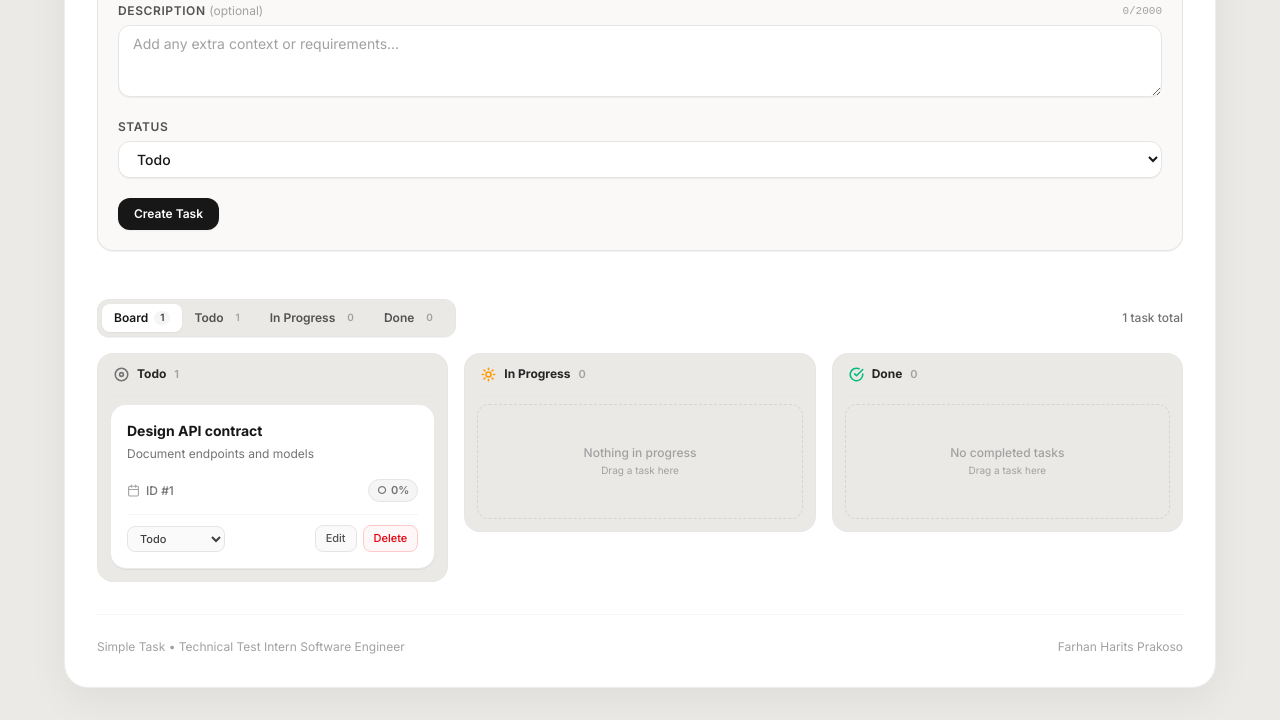
Test: Task Tracker App Component Tests (with Axios) › updates task status through quick selector via Axios PUT
(page scrolled)
Expected: the heading "Design API contract" is shown, [127,422,262,438]
Select "Done" in the dropdown named "change status for task": [176, 539] box [127,526,225,552]
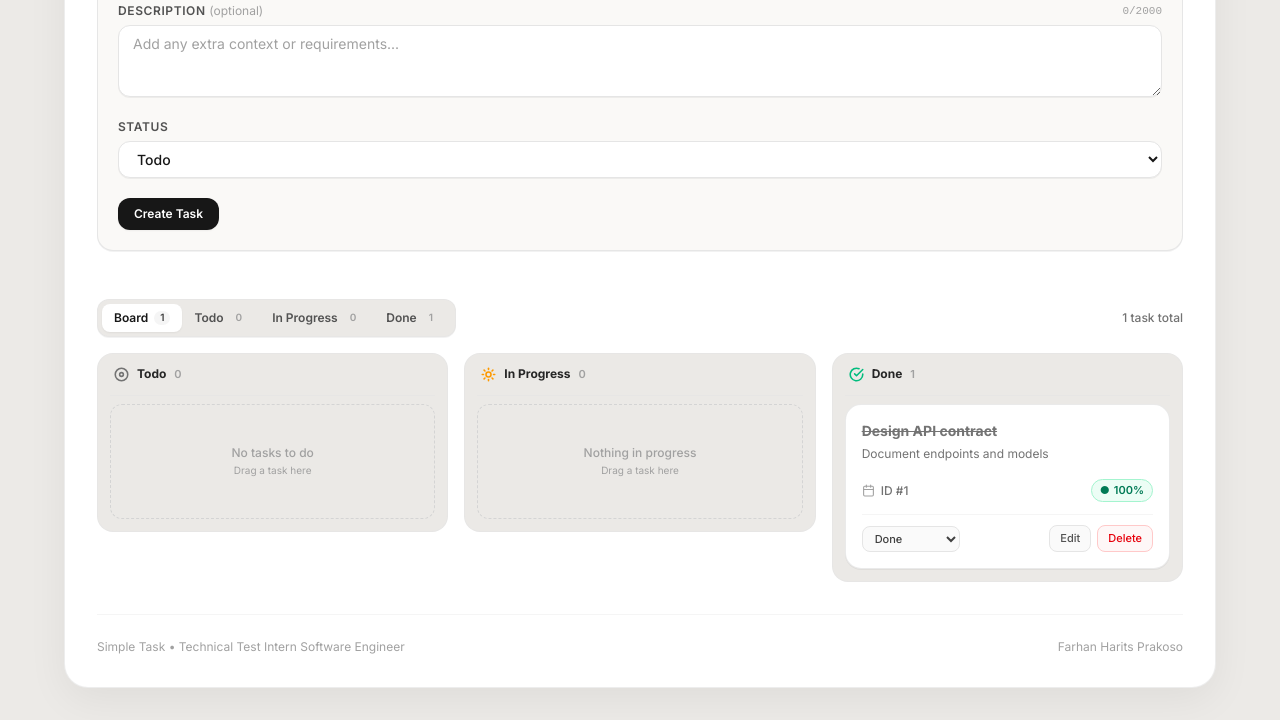
Result: the dropdown named "change status for task" shows "Done" at [862,526,960,552]
